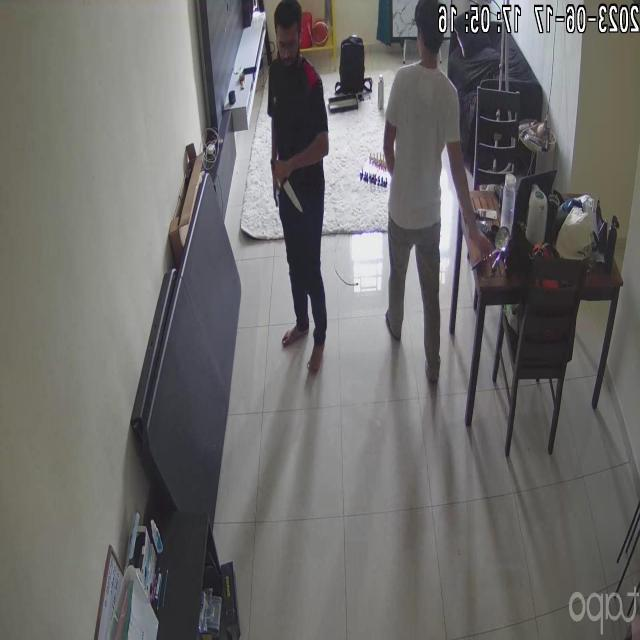Knife: (266, 154, 308, 220)
